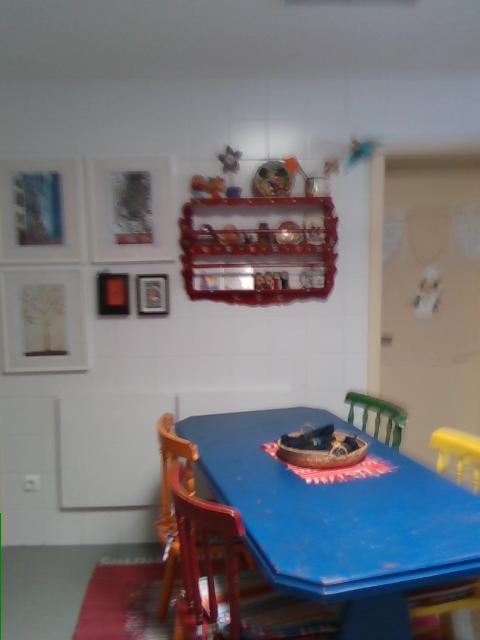closed_door: (367, 137, 479, 535)
